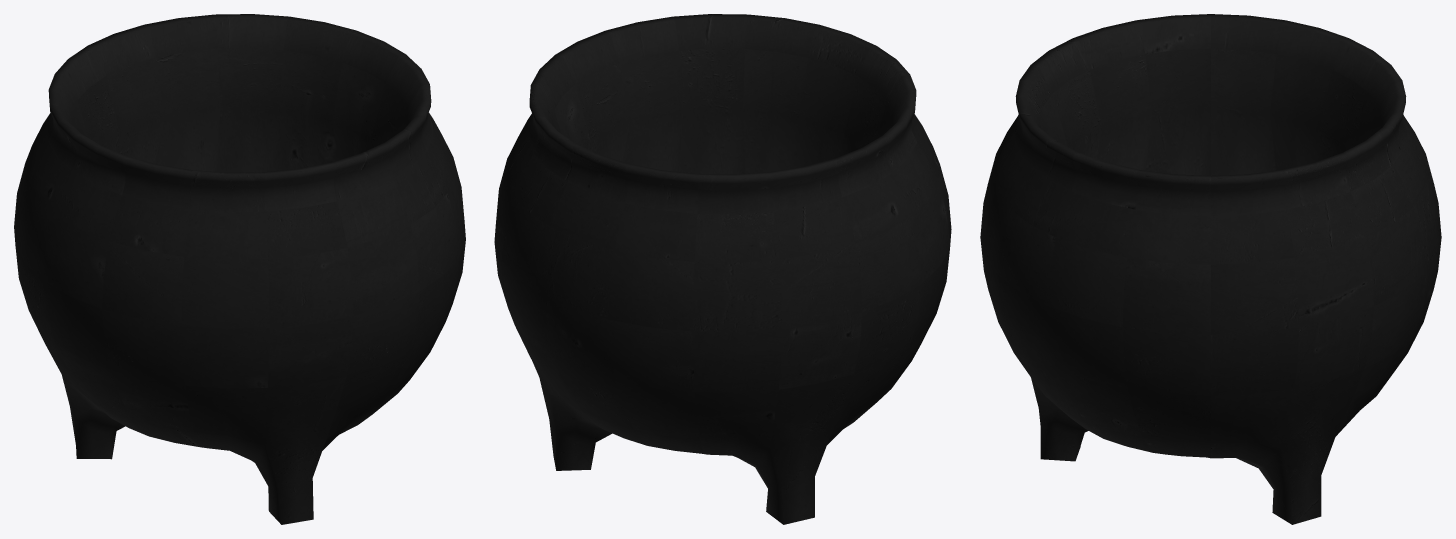
The model's file is Cauldronægte.fbx.
3 renders of one model, left to right at view 1: azimuth 30°, elevation 25°; view 2: azimuth 150°, elevation 25°; view 3: azimuth 270°, elevation 25°, orthographic.
Parts seen in each view (by area): view 1: Cylinder; view 2: Cylinder; view 3: Cylinder.
Boxes of the visible parts, left/top/right/bottom form: Cylinder: left=14, top=14, right=465, bottom=524; Cylinder: left=494, top=14, right=951, bottom=524; Cylinder: left=980, top=14, right=1441, bottom=524.
Size of the model in its own units: 205 by 180 by 205.
